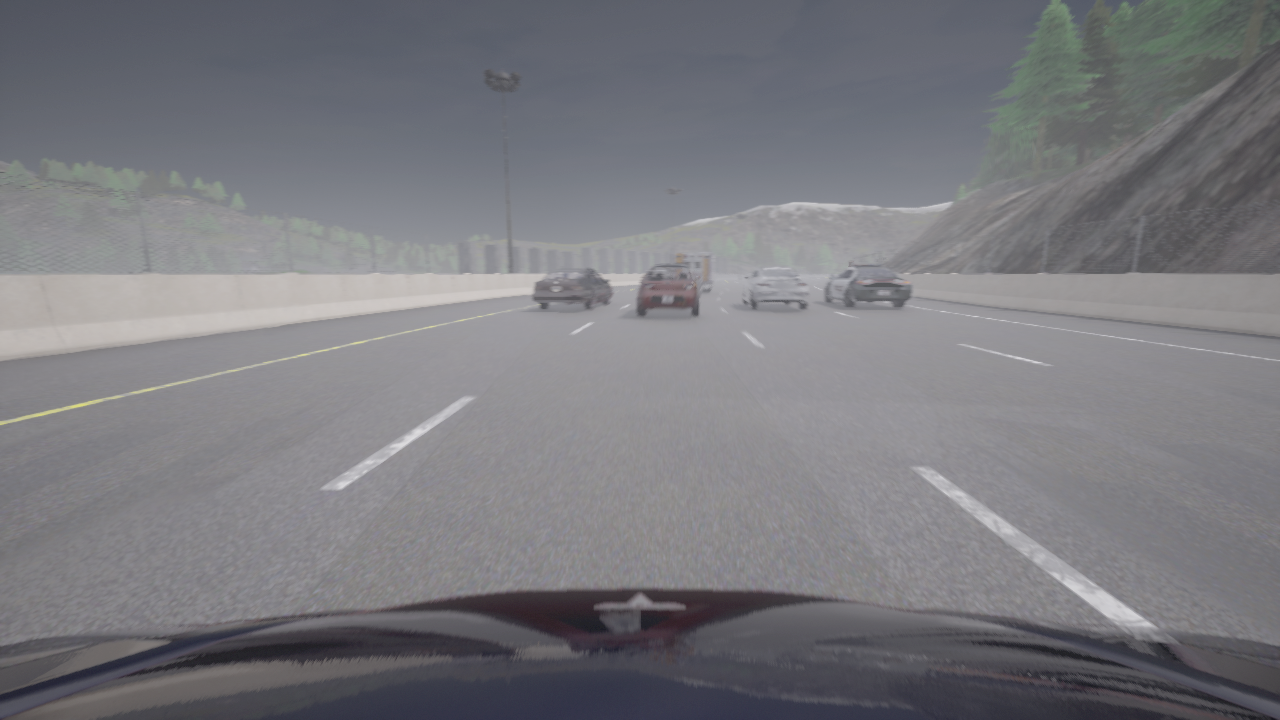cyclist: (0, 588, 1279, 719), (824, 264, 913, 307), (637, 264, 700, 317), (531, 268, 612, 309), (742, 266, 807, 309), (674, 252, 717, 292), (642, 270, 649, 280)
